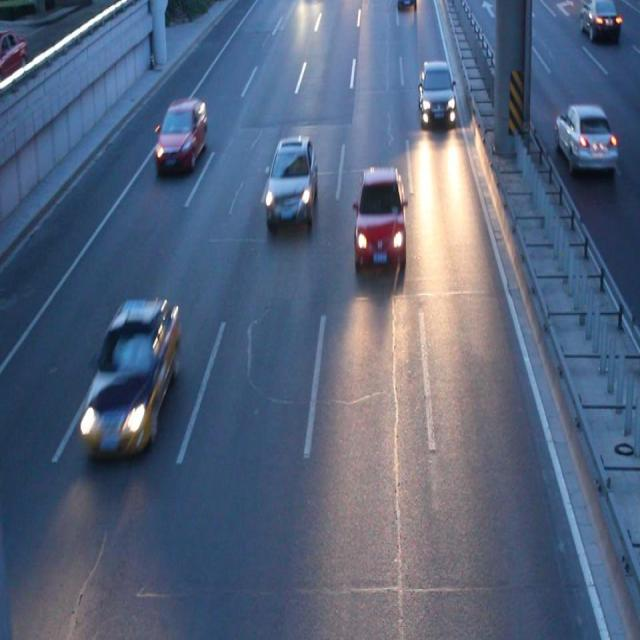car: (81, 297, 179, 448), (353, 166, 406, 265), (262, 135, 317, 230), (155, 97, 206, 171), (417, 58, 456, 127)
